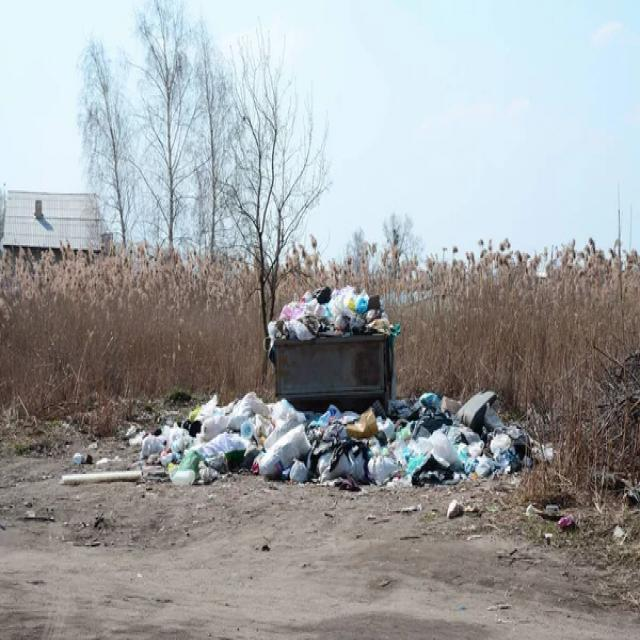garbage: (128, 372, 554, 499), (260, 278, 404, 358), (54, 443, 146, 497)
